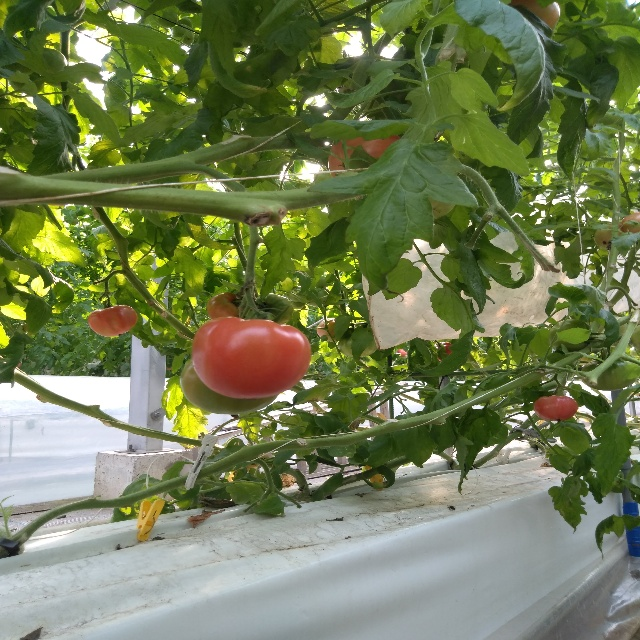b_fully_ripened: (191, 316, 312, 399), (533, 395, 578, 422)
b_green: (180, 357, 280, 415), (579, 358, 640, 391), (549, 318, 594, 352), (248, 293, 294, 325), (338, 325, 378, 358)
b_half_ripened: (88, 305, 138, 337), (206, 292, 245, 319), (317, 318, 338, 343)
